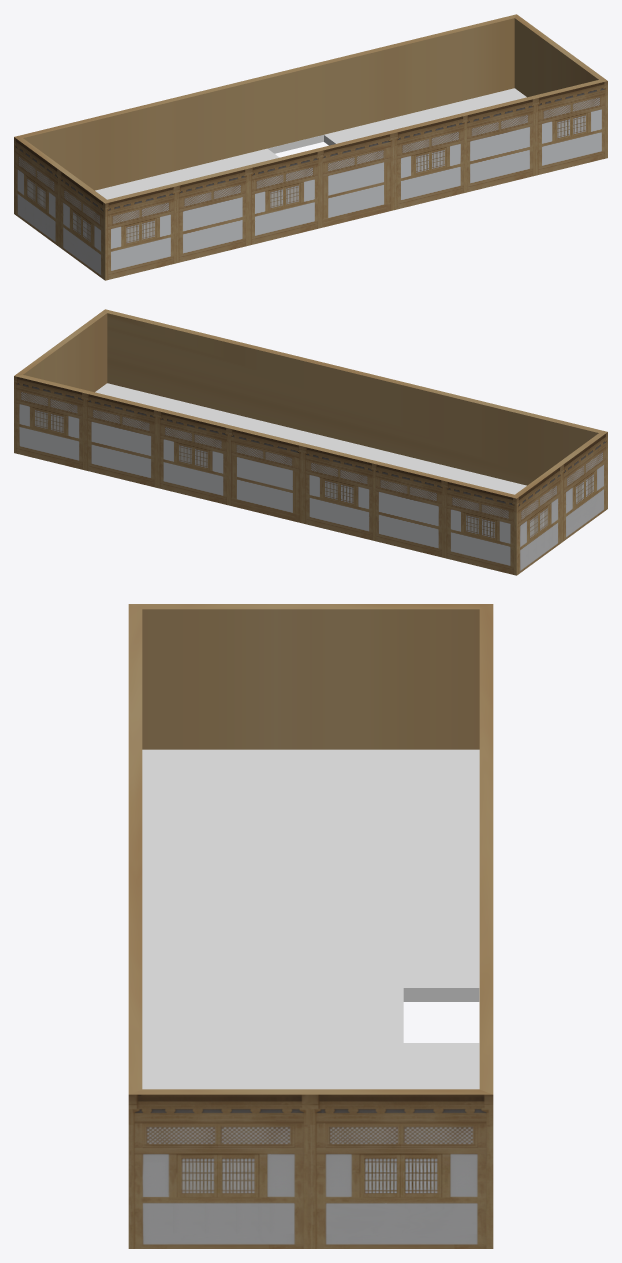
The model's file is interior2F.fbx.
3 views of the same model, one above another, from view 1: azimuth 30°, elevation 25°; view 2: azimuth 150°, elevation 25°; view 3: azimuth 270°, elevation 25° (orthographic). The views are drawn at different scales.
Visible parts, largest first — view 1: 2F; view 2: 2F; view 3: 2F.
Boxes of the visible parts, bbox=[...] form: 2F: bbox=[14, 14, 607, 280]; 2F: bbox=[14, 309, 607, 575]; 2F: bbox=[128, 604, 493, 1248].
Bounding box in the file's own units: 24808 × 3634 × 7794.
Materials: 3 (2 with a texture image).
